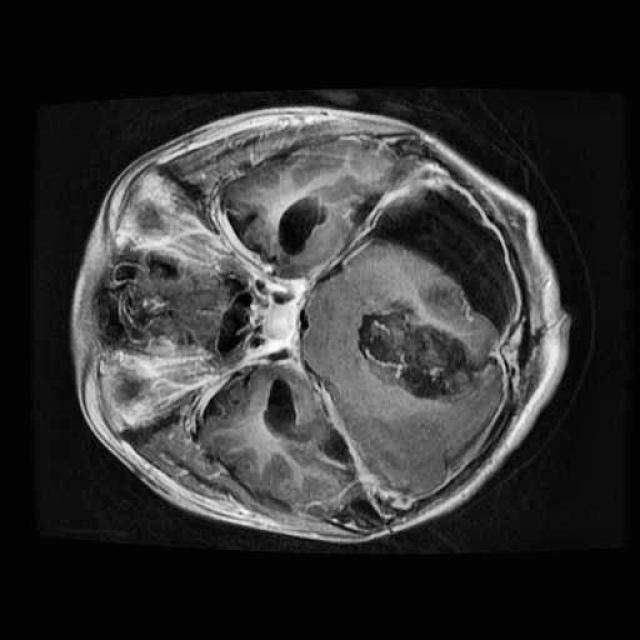Non-Tumor: (348, 289, 496, 416)
